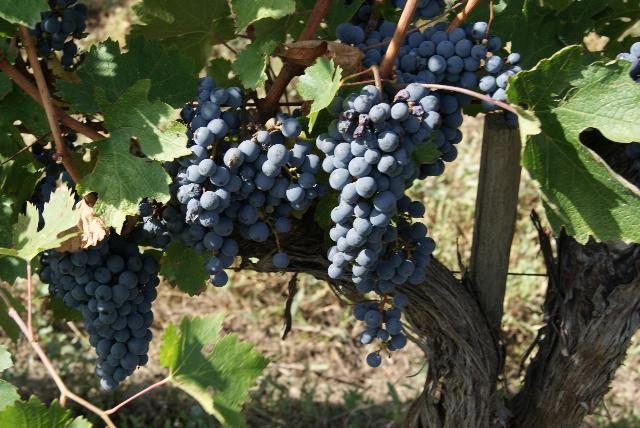grapes: (139, 76, 321, 286), (318, 82, 462, 279), (40, 231, 159, 391), (354, 221, 435, 351), (395, 20, 514, 99), (335, 4, 405, 68)
